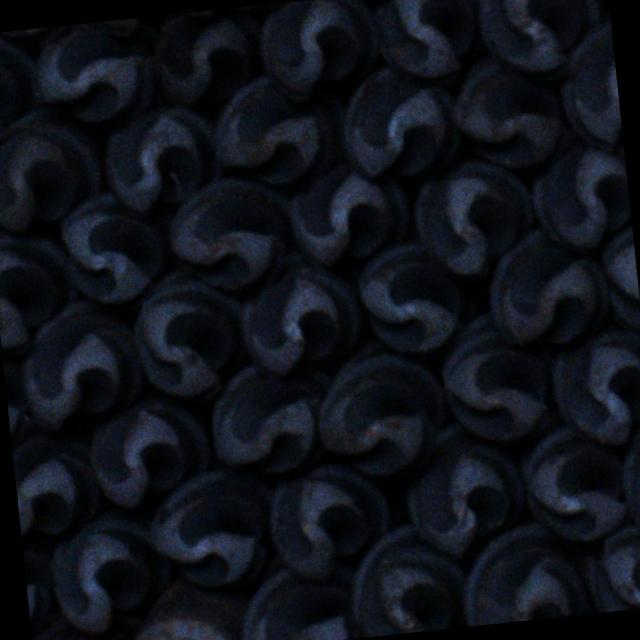tool_b: (308, 336, 452, 484), (432, 290, 558, 444), (398, 419, 532, 558), (142, 463, 285, 593), (125, 258, 254, 402), (205, 66, 350, 192), (10, 298, 144, 433), (44, 509, 176, 640), (160, 172, 298, 296), (235, 246, 366, 376), (484, 220, 614, 350), (409, 152, 538, 282), (207, 358, 342, 482), (513, 406, 632, 546), (262, 456, 394, 582), (334, 62, 462, 187), (84, 393, 216, 512), (447, 50, 569, 174), (28, 17, 161, 129), (454, 519, 590, 627), (339, 525, 468, 638), (283, 157, 413, 269), (102, 102, 228, 216), (351, 236, 467, 358), (56, 186, 172, 308), (525, 126, 634, 254), (0, 103, 104, 230), (252, 0, 381, 101), (231, 544, 364, 640), (142, 9, 267, 110), (546, 327, 640, 451), (11, 425, 106, 537), (471, 0, 606, 77), (0, 226, 79, 353), (554, 18, 624, 156), (371, 0, 491, 80), (579, 518, 640, 611), (597, 223, 640, 340), (0, 318, 34, 456), (0, 30, 40, 147), (20, 527, 57, 640), (615, 410, 640, 548)
